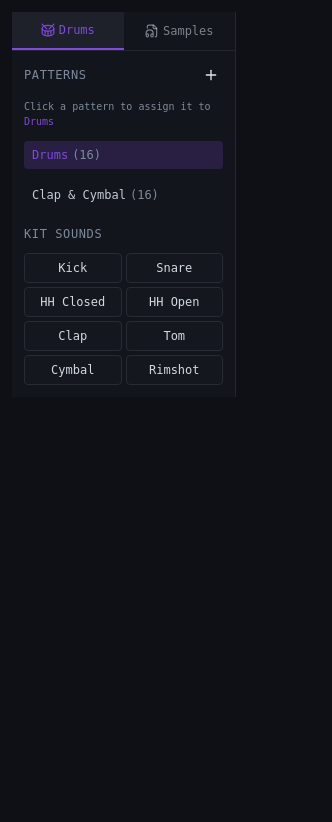
InstrumentSidebar › switches to the samples panel
Click the button "Samples" at (179, 31), box [124,12,235,50]
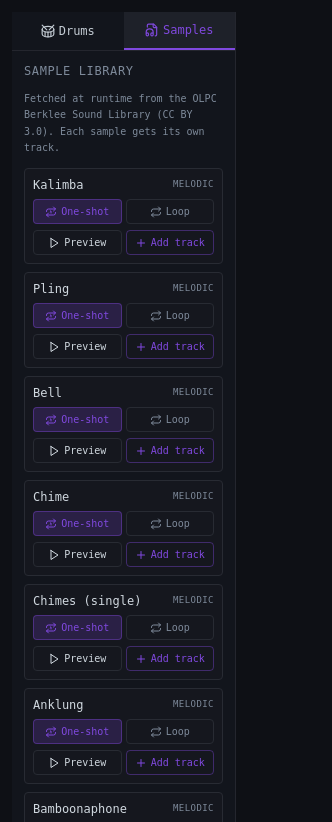
Now the text "Sample Library" is shown, box [24,63,134,79]
Now the text "Kalimba" is shown, box [33,177,84,193]
